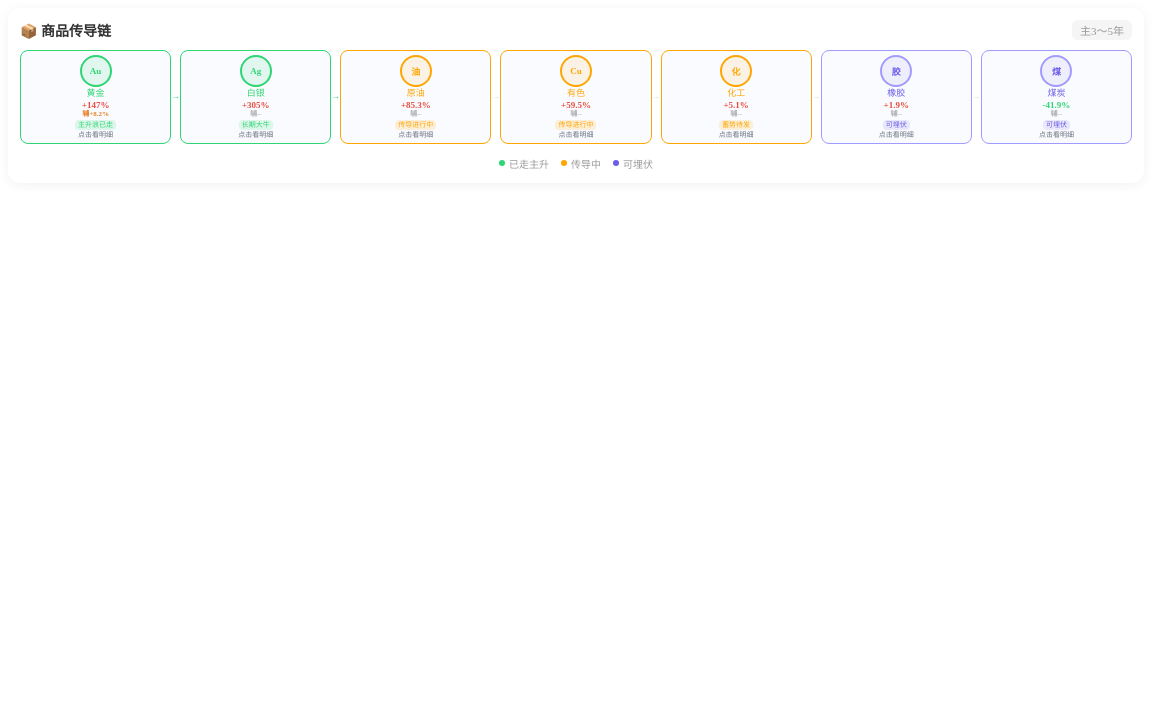
Test: CommodityChain › opens detail modal for full aux and window text, closes via button and backdrop
The width and height of the screenshot is (1152, 720).
Step 1. Click the button with test id "chain-node-518880" → (96, 97), box [20, 50, 171, 144]
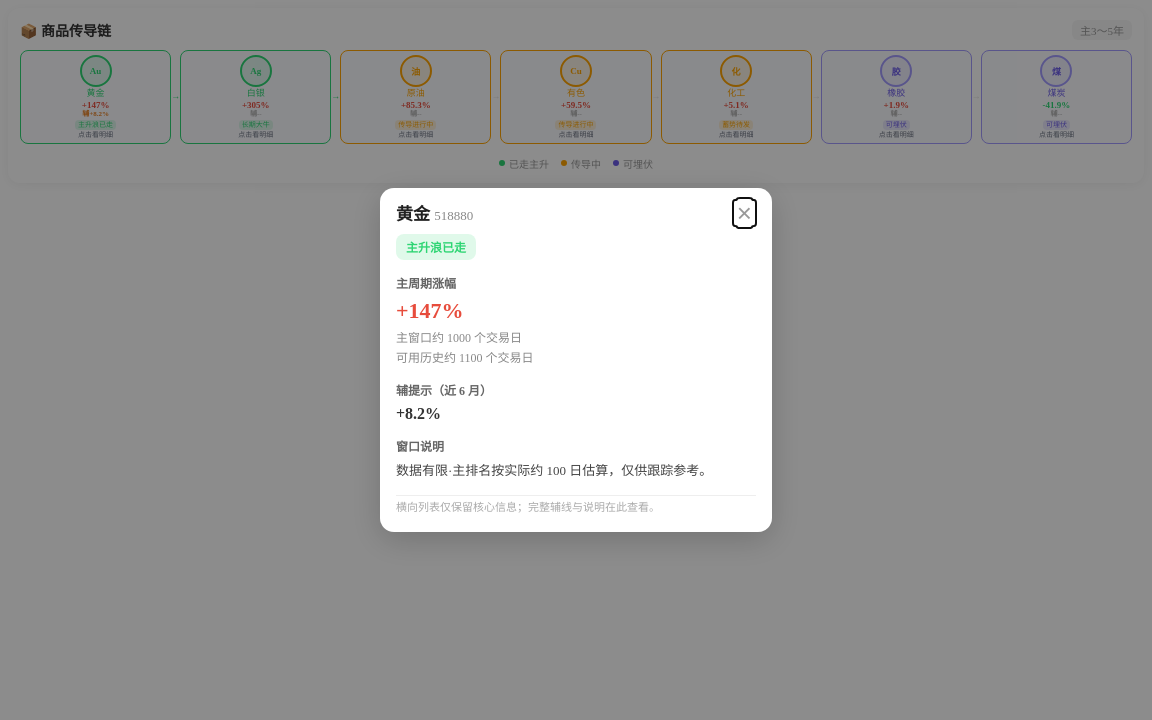
Expected: the dialog with test id "chain-detail-dialog" is shown, [380, 188, 772, 532]
Expected: the text "数据有限·主排名按实际约 100 日估算，仅供跟踪参考。" is shown, [396, 461, 756, 481]
Expected: the text "主窗口约 1000 个交易日" is shown, [396, 331, 522, 345]
Step 2. Click the button named "关闭" → (744, 213), box [733, 200, 756, 226]
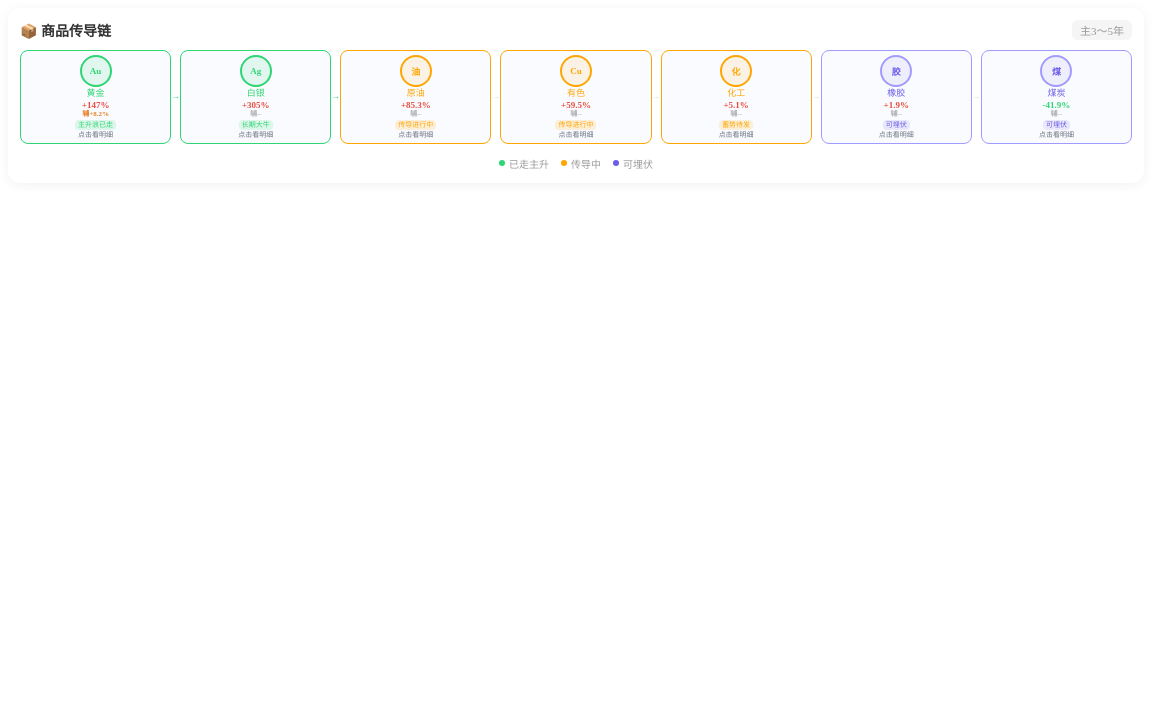
Expected: the dialog with test id "chain-detail-dialog" is gone
Step 3. Click the button with test id "chain-node-518880" → (96, 97), box [20, 50, 171, 144]
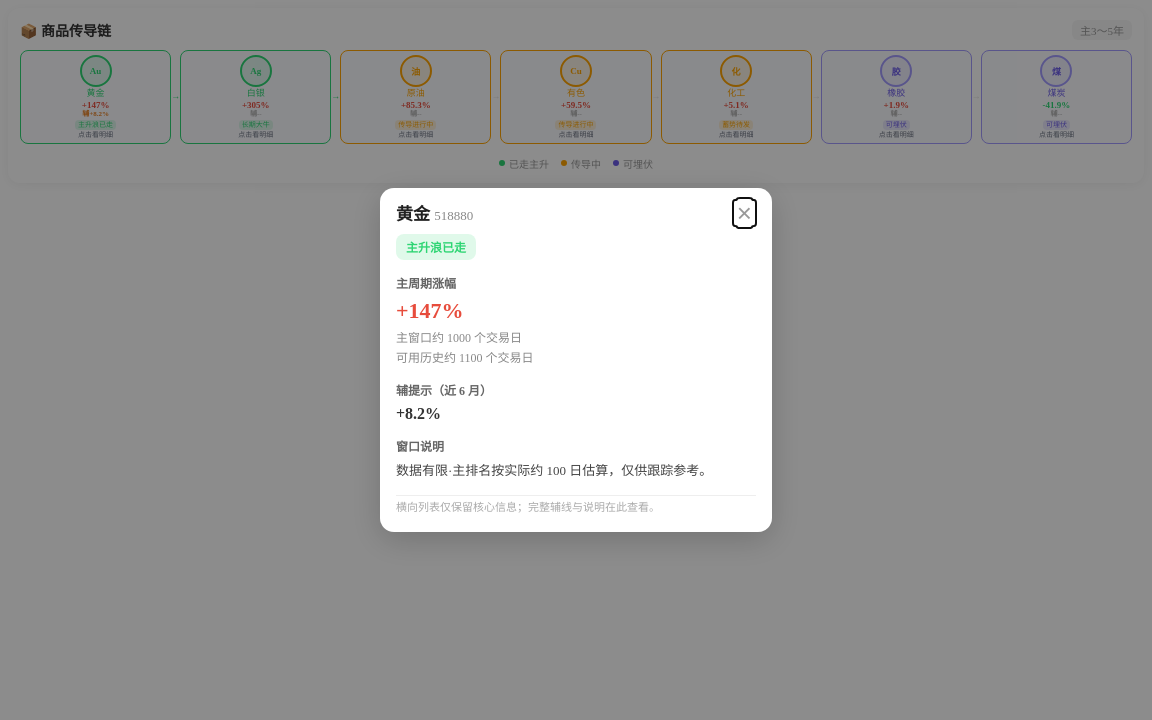
Expected: the dialog with test id "chain-detail-dialog" is shown, [380, 188, 772, 532]
Step 4. Click the element with test id "chain-detail-backdrop" → (69, 360), box [0, 0, 1151, 719]
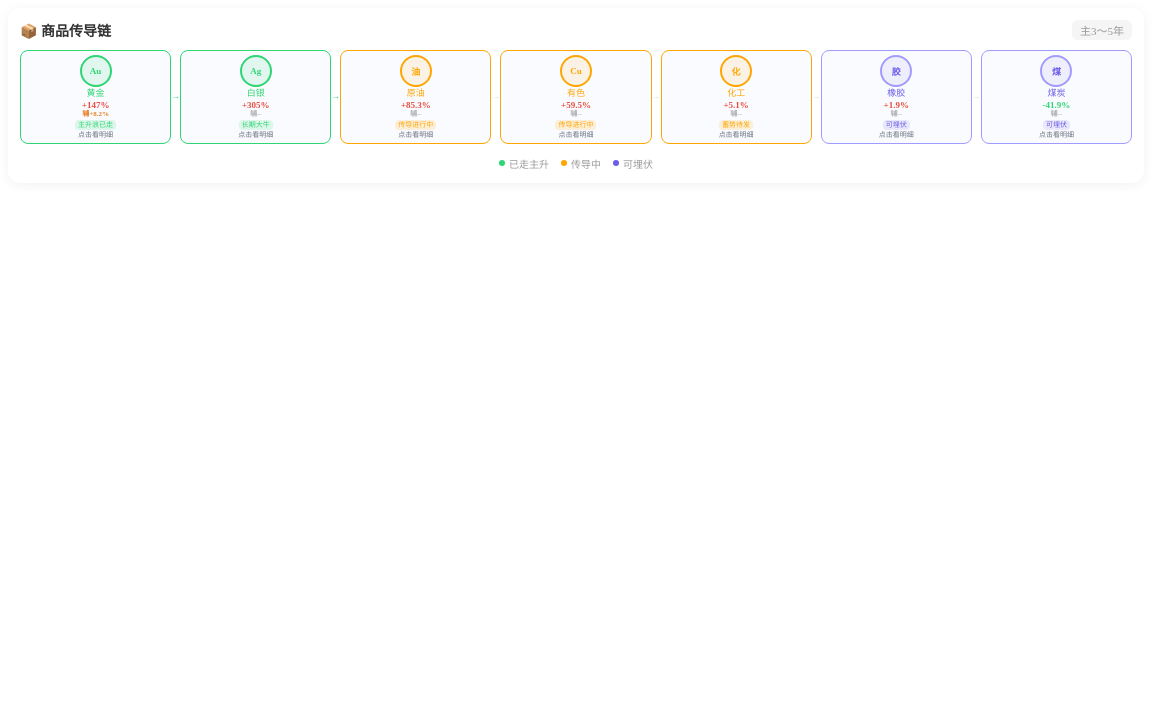
Expected: the dialog with test id "chain-detail-dialog" is gone
